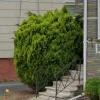stairs: (35, 65, 84, 100)
